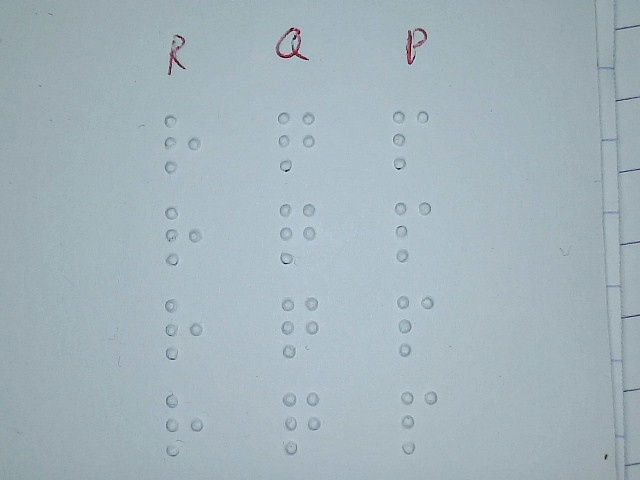P: (399, 388, 440, 455), (389, 107, 431, 170), (392, 199, 434, 262), (394, 293, 436, 356)
Q: (275, 109, 317, 172), (277, 201, 319, 264), (279, 295, 321, 358), (281, 391, 323, 454)
R: (161, 112, 203, 175), (162, 204, 204, 267), (163, 297, 205, 360), (163, 393, 205, 456)
